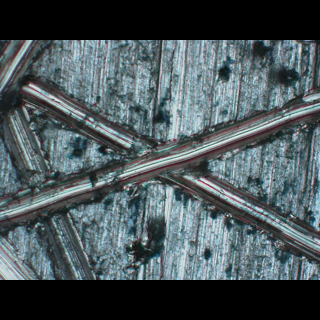d: (0, 81, 319, 274)
